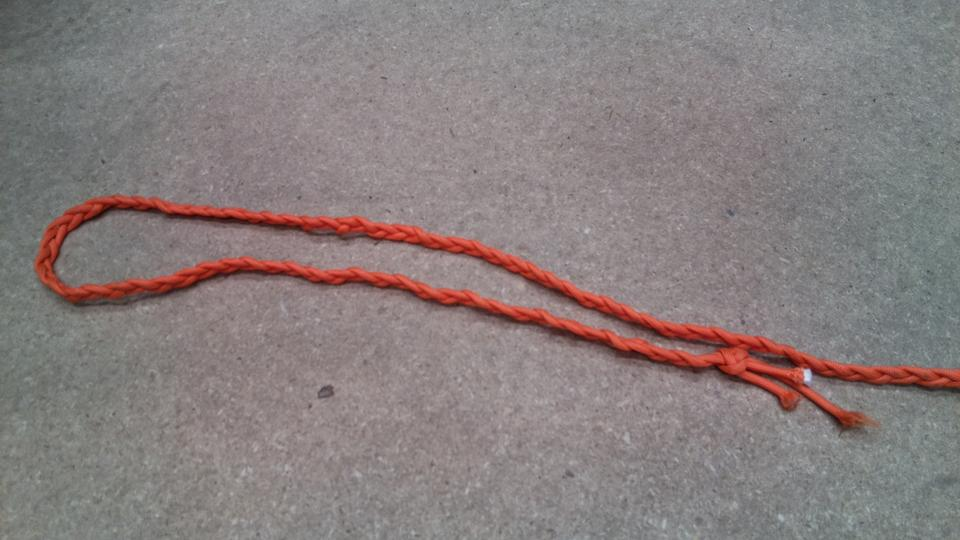rope: (32, 189, 960, 440)
